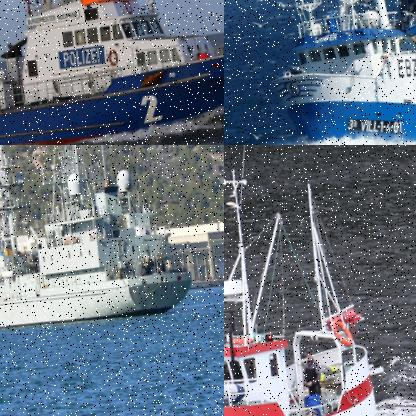Fishing Boat: (224, 152, 383, 415), (247, 0, 415, 144)
Military Ship: (0, 145, 197, 344)
Patrol Boat: (0, 0, 223, 144)
